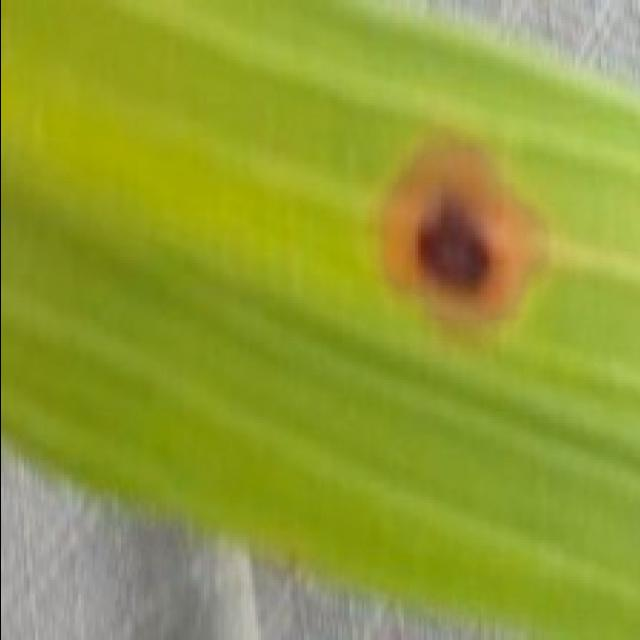Unhealthy: (371, 137, 549, 346)
